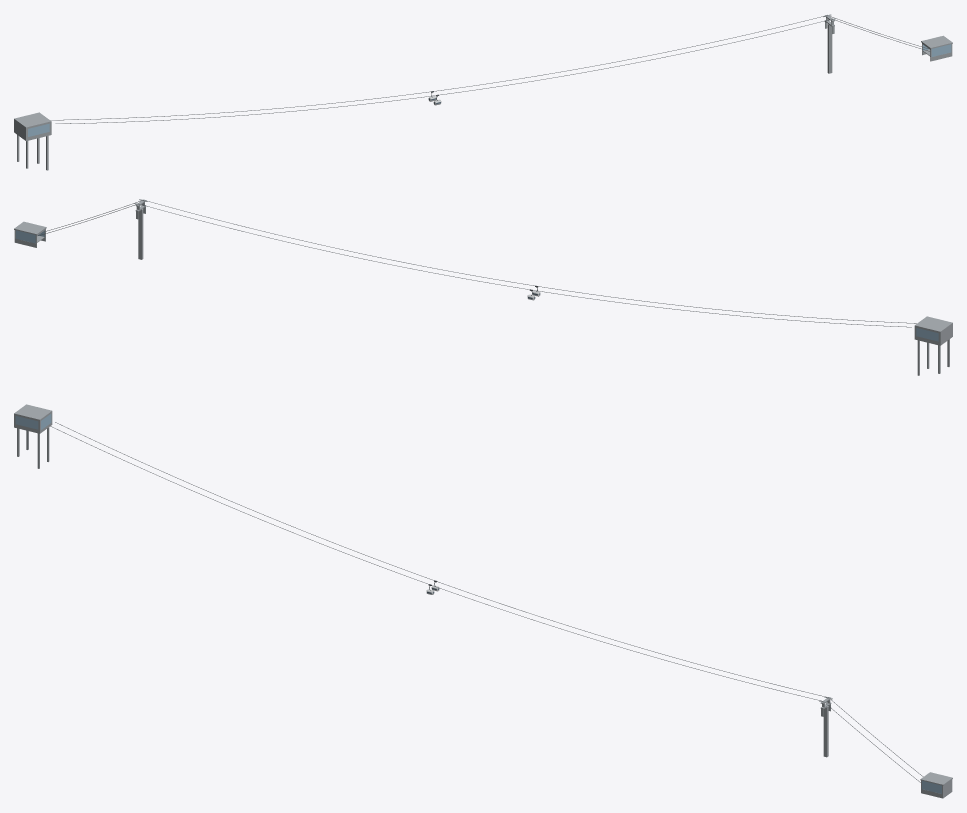
The model's file is pdx-aerial-tram.glb.
3 renders of one model, top to bottom at view 1: azimuth 30°, elevation 25°; view 2: azimuth 150°, elevation 25°; view 3: azimuth 330°, elevation 25°, orthographic. The views are drawn at different scales.
Visible parts, largest first — view 1: Portland Aerial Tram; view 2: Portland Aerial Tram; view 3: Portland Aerial Tram.
Part boxes in pixels (x1=…): Portland Aerial Tram: x1=14, y1=14, x2=952, y2=170; Portland Aerial Tram: x1=14, y1=199, x2=952, y2=375; Portland Aerial Tram: x1=14, y1=404, x2=952, y2=798.
Bounding box in the file's own units: 1047 × 159 × 42.86.
